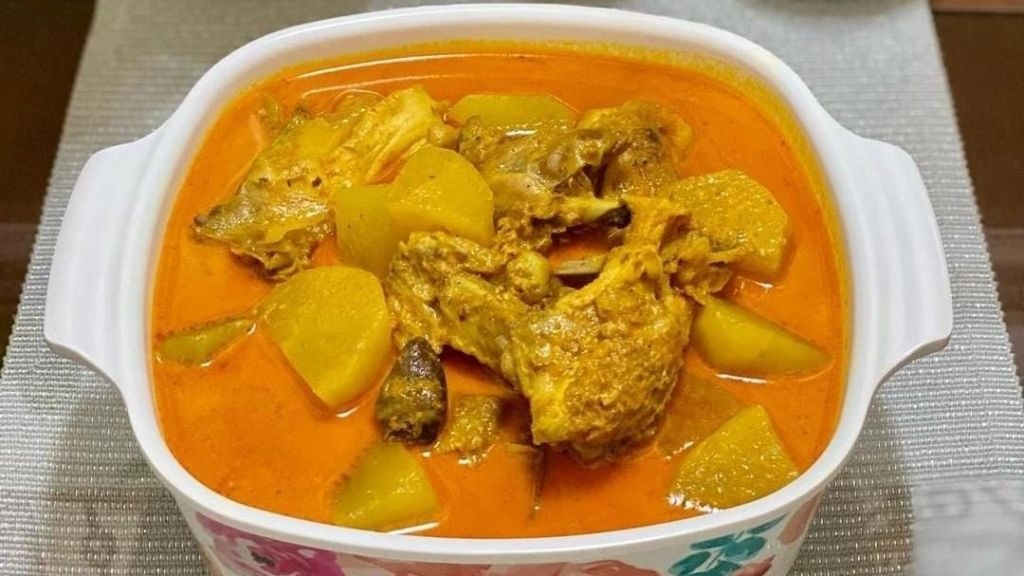gulai_ayam: (128, 37, 888, 559)
